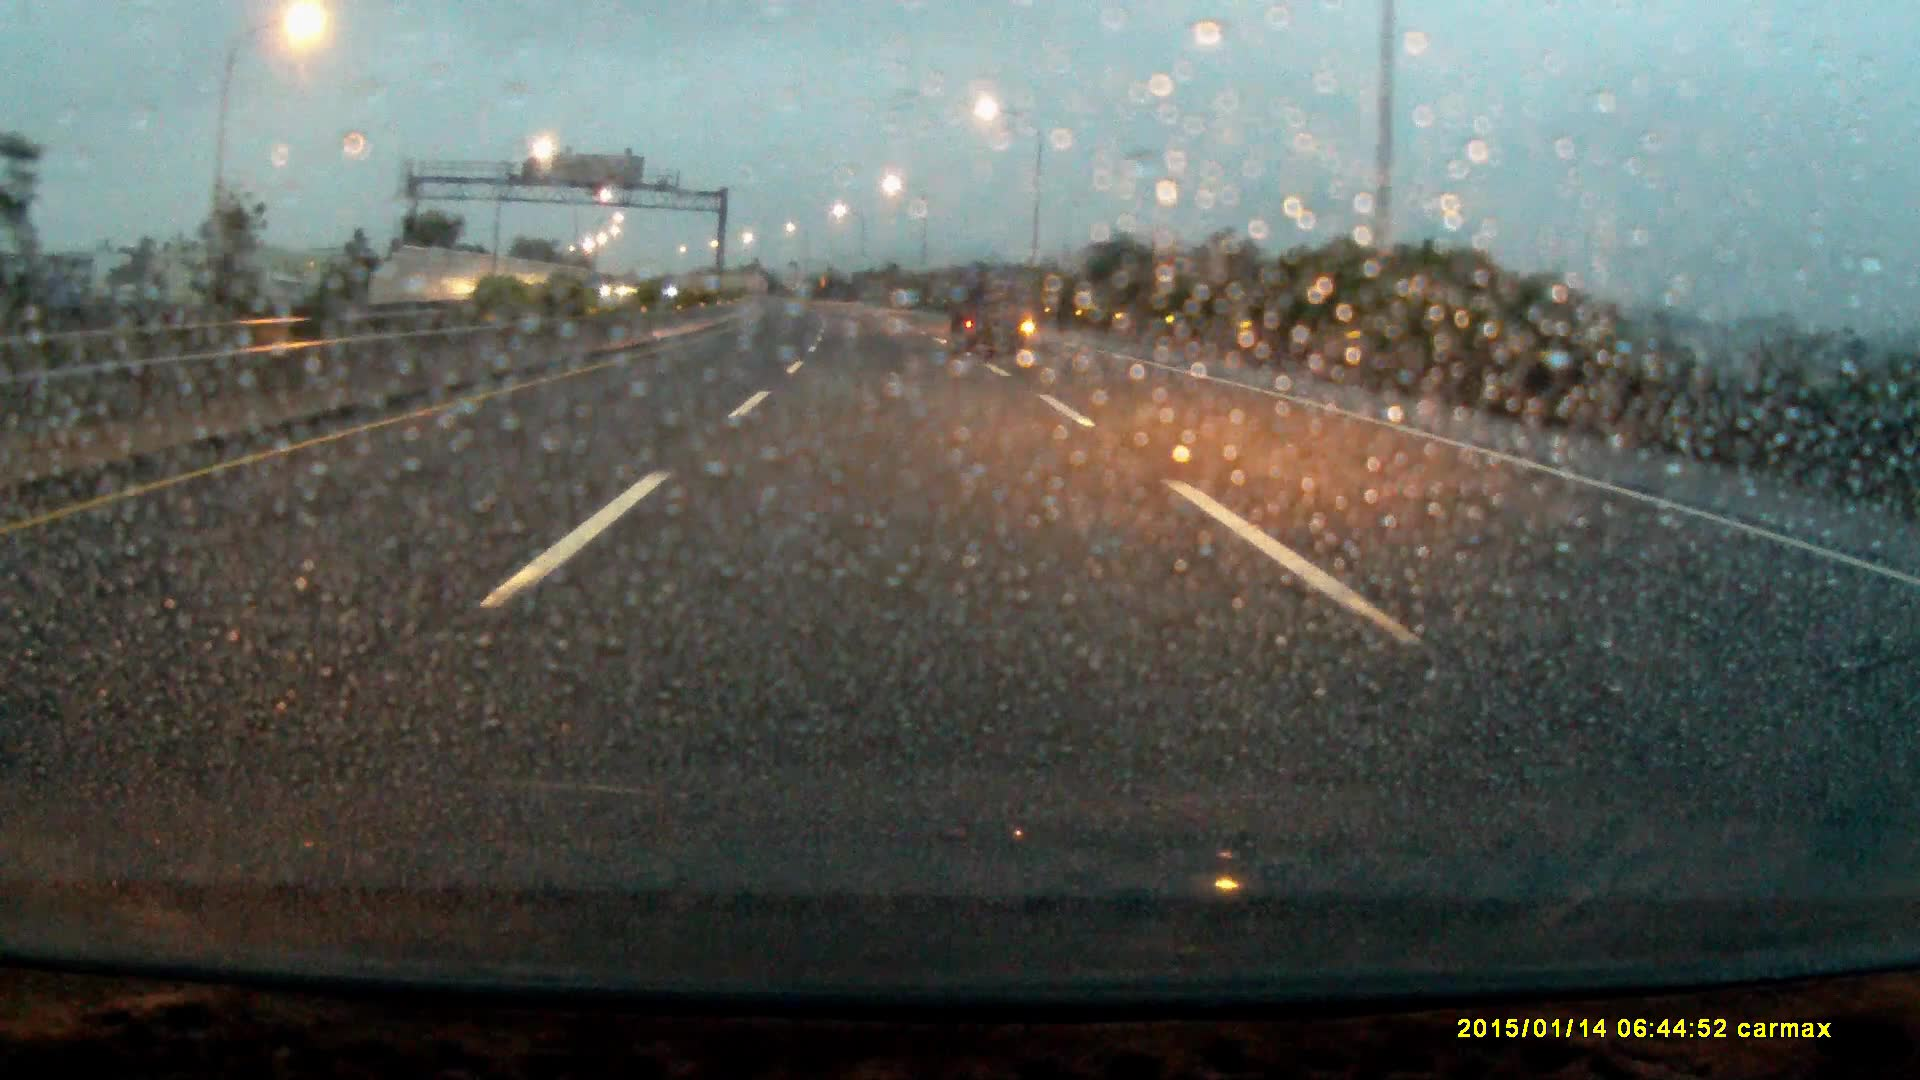vehicle: (949, 272, 1035, 360)
